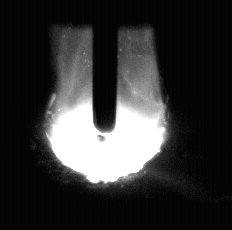arame: (94, 0, 117, 133)
poca: (50, 0, 166, 230)
